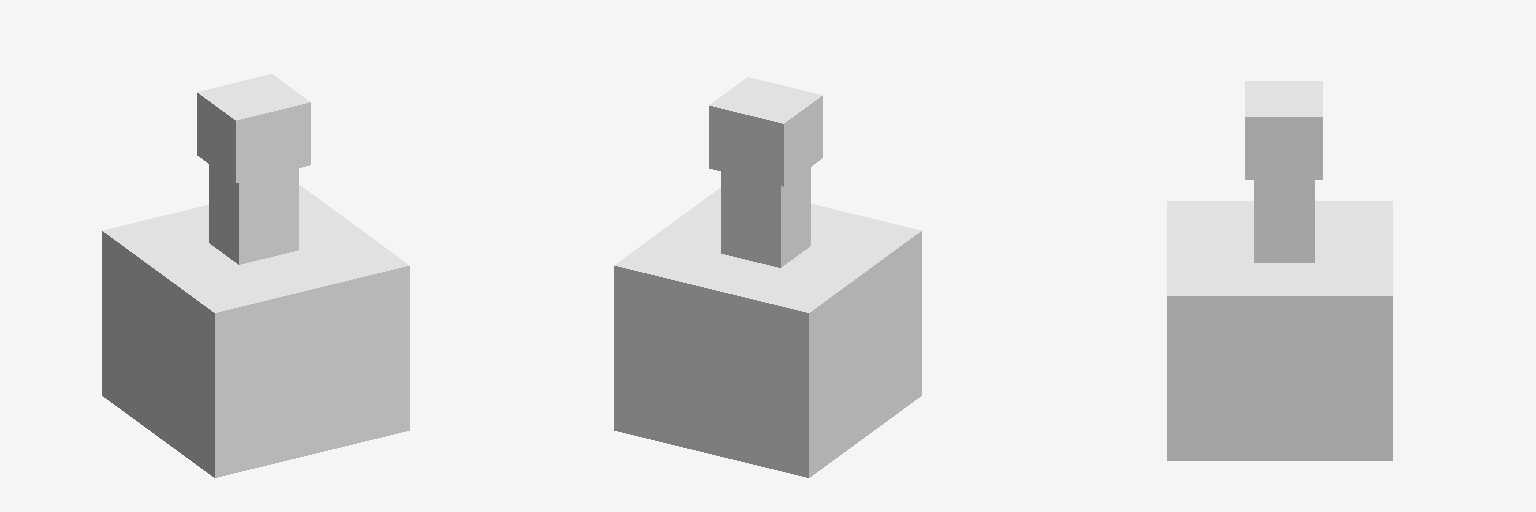
Rendered from ElectricTower.obj.
3 views of the same model, side by side, from view 1: azimuth 30°, elevation 25°; view 2: azimuth 150°, elevation 25°; view 3: azimuth 270°, elevation 25° (orthographic).
Visible parts, largest first — view 1: object 1; view 2: object 1; view 3: object 1.
Boxes of the visible parts, x1=… form: object 1: x1=102, y1=74, x2=409, y2=477; object 1: x1=614, y1=77, x2=921, y2=477; object 1: x1=1167, y1=81, x2=1392, y2=460.
Size of the model in its own units: 2.6 by 4 by 2.6.